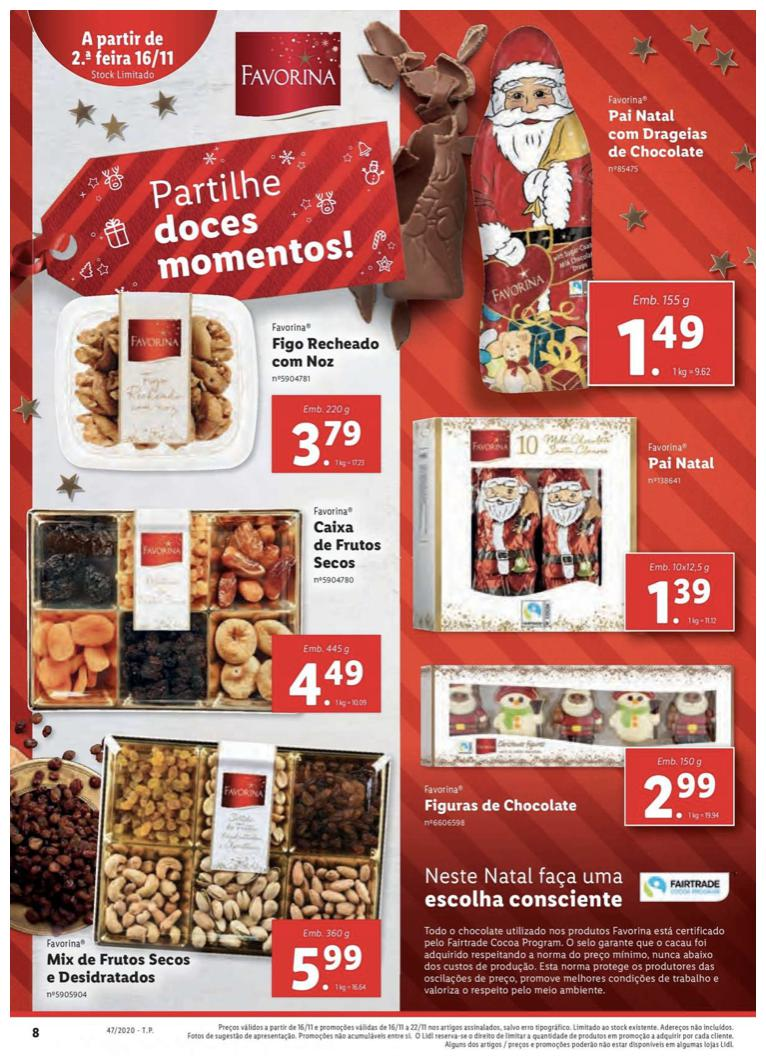name: (600, 105, 716, 166), (43, 949, 198, 990), (270, 332, 383, 372), (423, 793, 585, 820), (308, 515, 383, 572), (639, 448, 718, 474)
price: (601, 307, 720, 385), (635, 766, 729, 824), (284, 416, 377, 473), (284, 655, 368, 714), (287, 940, 372, 998), (638, 573, 725, 627)
product: (459, 18, 745, 401), (39, 736, 400, 1003), (9, 493, 384, 744), (408, 406, 748, 645), (410, 644, 748, 858), (47, 286, 389, 480)
